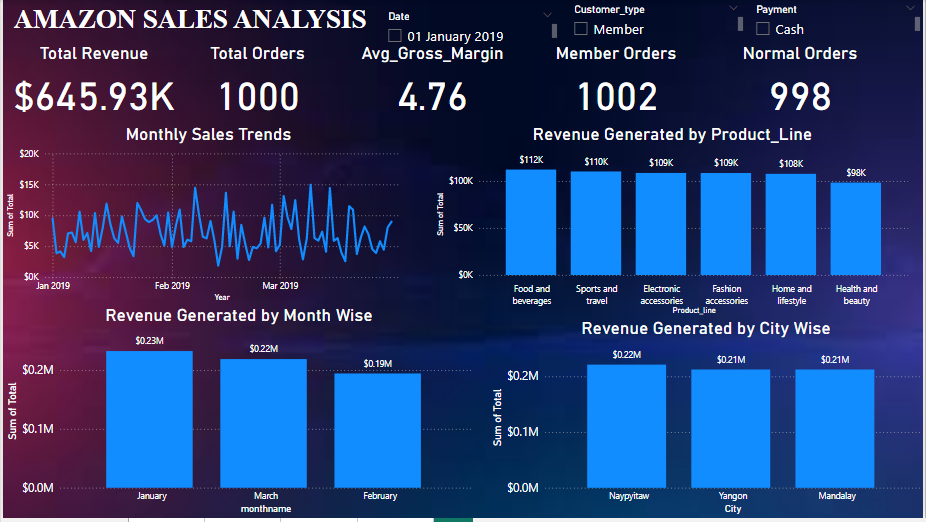

The page's visual inventory and layout, read from the dashboard file:
{"tool":"powerbi","page":{"name":"Page 1","canvas":[1280,720],"ordinal":0},"visuals":[{"type":"textbox","box":[10.2,0,562.1,59.3],"z":0},{"type":"card","title":"Total Revenue","fields":{"Values":["Sum(sql_capstone_project project.Total)"]},"box":[0,59.8,253,112.6],"z":1000},{"type":"slicer","fields":{"Values":["sql_capstone_project project.Payment"]},"box":[1034.1,0,246,69.5],"z":2000},{"type":"card","title":"Total Orders","fields":{"Values":["Count(sql_capstone_project project.Invoice_ID)"]},"box":[253,59.8,201.5,112.6],"z":3000},{"type":"card","title":"Avg_Gross_Margin","fields":{"Values":["Avg(sql_capstone_project project.gross_margin_percentage)"]},"box":[467,59.8,259.9,112.6],"z":4000},{"type":"card","title":"Member Orders","fields":{"Values":["sql_capstone_project project.Member Orders"]},"box":[736.7,59.8,230.7,112.6],"z":5000},{"type":"card","title":"Normal Orders","fields":{"Values":["sql_capstone_project project.Normal Orders"]},"box":[992.4,59.8,230.7,112.6],"z":6000},{"type":"lineChart","title":"Monthly Sales Trends","fields":{"Y":["Sum(sql_capstone_project project.Total)"],"Category":["sql_capstone_project project.Date.Variation.Date Hierarchy.Year","sql_capstone_project project.Date.Variation.Date Hierarchy.Quarter","sql_capstone_project project.Date.Variation.Date Hierarchy.Month","sql_capstone_project project.Date.Variation.Date Hierarchy.Day"]},"box":[0,172.4,571.3,251.6],"z":7000},{"type":"columnChart","title":"Revenue Generated by Product_Line","fields":{"Y":["Sum(sql_capstone_project project.Total)"],"Category":["sql_capstone_project project.Product_line"]},"box":[597.7,172.4,665.8,269.7],"z":8000},{"type":"columnChart","title":"Revenue Generated by Month Wise","fields":{"Category":["sql_capstone_project project.monthname"],"Y":["Sum(sql_capstone_project project.Total)"]},"box":[0,423.9,656.1,296.1],"z":9000},{"type":"columnChart","title":"Revenue Generated by City Wise","fields":{"Y":["Sum(sql_capstone_project project.Total)"],"Category":["sql_capstone_project project.City"]},"box":[674.1,442,606,278],"z":10000},{"type":"slicer","fields":{"Values":["sql_capstone_project project.Customer_type"]},"box":[781.2,0,253,59.8],"z":11000},{"type":"slicer","fields":{"Values":["sql_capstone_project project.Date"]},"box":[522.9,10,253,59.8],"z":12000}]}

Visuals, with their boxes in screenshot pixels (x1, y1, x2, y2), scaled from the page's 1280x720 canvas onto the 926x522 screenshot:
textbox: 7:0:414:43
"Total Revenue" card: 0:43:183:125
slicer - sql_capstone_project project.Payment: 748:0:925:50
"Total Orders" card: 183:43:329:125
"Avg_Gross_Margin" card: 338:43:526:125
"Member Orders" card: 533:43:700:125
"Normal Orders" card: 718:43:885:125
"Monthly Sales Trends" lineChart: 0:125:413:307
"Revenue Generated by Product_Line" columnChart: 432:125:914:321
"Revenue Generated by Month Wise" columnChart: 0:307:475:521
"Revenue Generated by City Wise" columnChart: 488:320:925:521
slicer - sql_capstone_project project.Customer_type: 565:0:748:43
slicer - sql_capstone_project project.Date: 378:7:561:51
